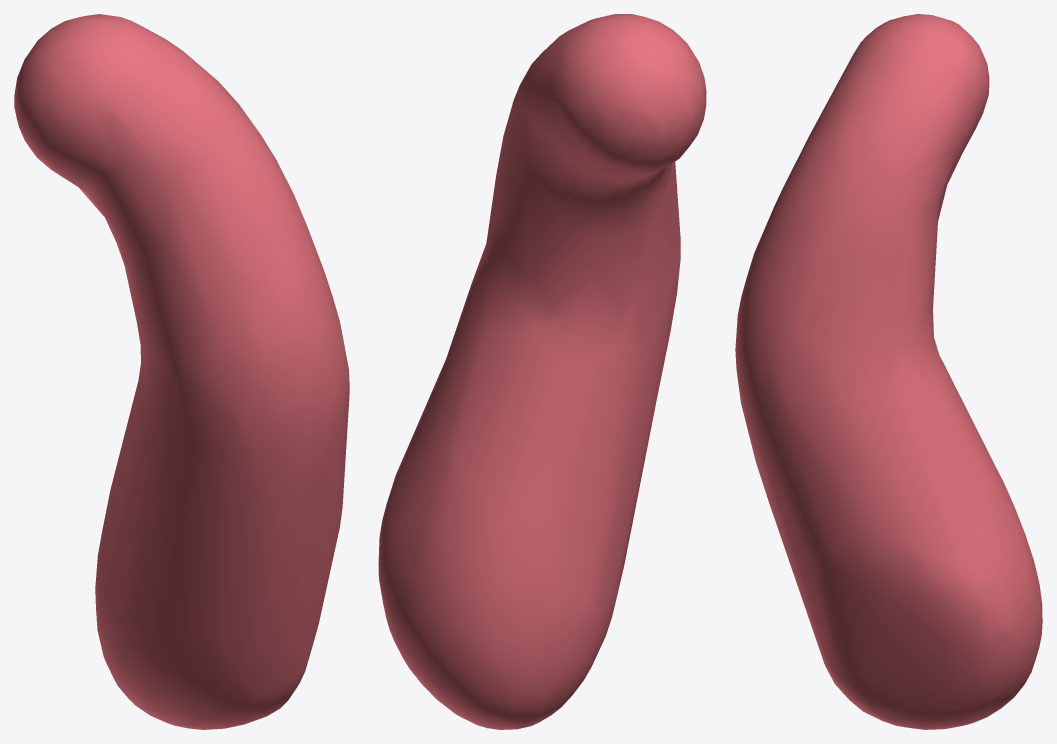
The model's file is fma4751.glb.
The picture shows the model from 3 angles, left to right: view 1: azimuth 30°, elevation 25°; view 2: azimuth 150°, elevation 25°; view 3: azimuth 270°, elevation 25°; orthographic projection. The views are drawn at different scales.
Visible parts, largest first — view 1: FMA4751; view 2: FMA4751; view 3: FMA4751.
Boxes of the visible parts, box(x1,y1,x2,y2) form: FMA4751: box(14, 14, 349, 729); FMA4751: box(378, 14, 706, 729); FMA4751: box(735, 14, 1042, 729).
Size of the model in its own units: 0.022 by 0.052 by 0.0222.
